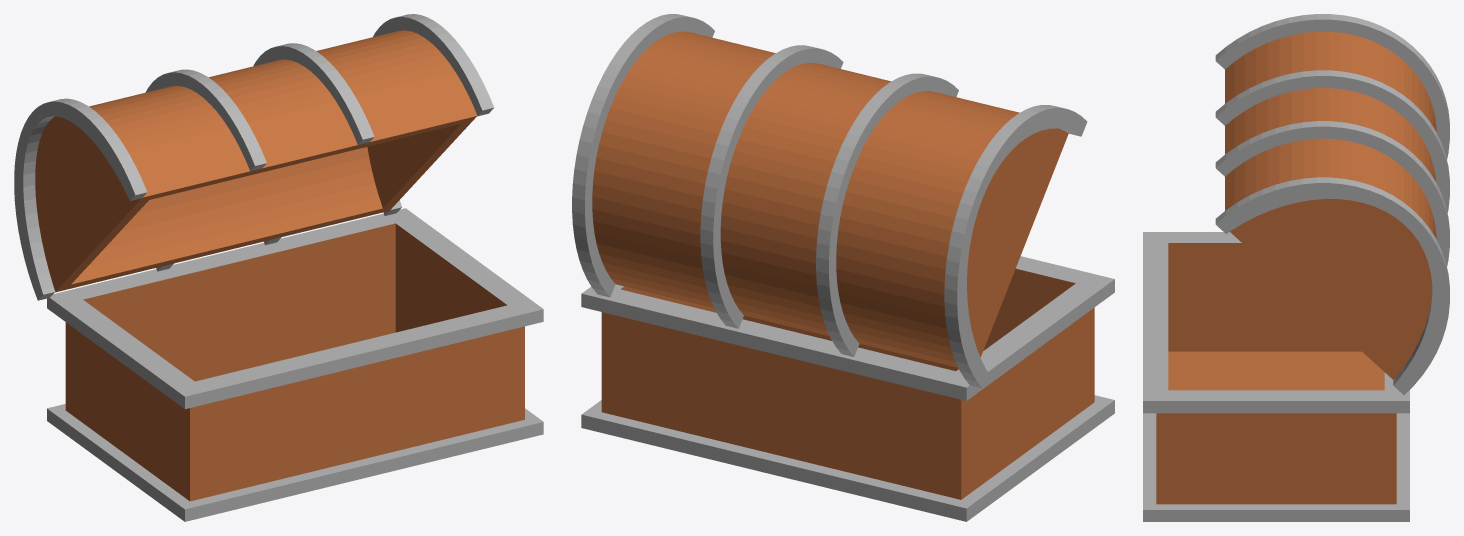
File: Chest.fbx
3 renders of one model, left to right at view 1: azimuth 30°, elevation 25°; view 2: azimuth 150°, elevation 25°; view 3: azimuth 270°, elevation 25°, orthographic. The views are drawn at different scales.
Parts seen in each view (by area): view 1: obj_0.001, obj_0.002; view 2: obj_0.002, obj_0.001; view 3: obj_0.002, obj_0.001.
Part boxes in pixels (x1,y1,x2,y2): obj_0.001: [47, 208, 543, 521]; obj_0.002: [14, 14, 494, 300]; obj_0.002: [572, 14, 1087, 388]; obj_0.001: [581, 256, 1114, 521]; obj_0.002: [1215, 14, 1449, 394]; obj_0.001: [1143, 232, 1409, 521].
Size of the model in its own units: 3100 by 2757 by 2300.
